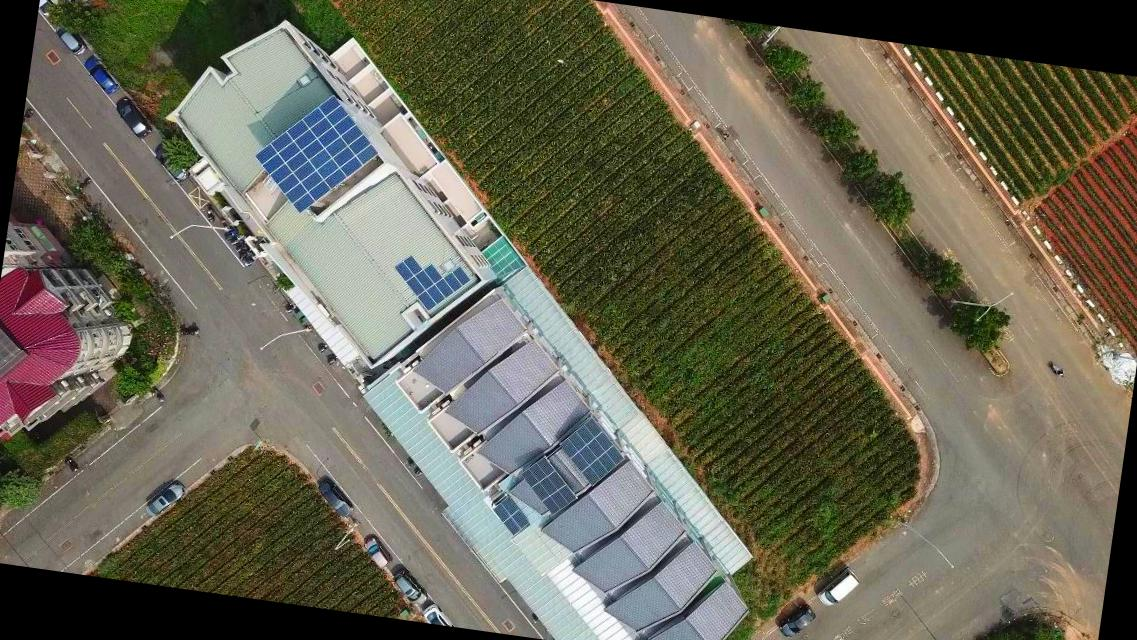vehicle: (814, 566, 862, 612), (143, 477, 186, 522), (113, 96, 156, 140), (314, 477, 356, 521), (80, 56, 125, 96), (153, 144, 193, 183), (390, 568, 429, 606), (778, 604, 816, 639), (53, 23, 89, 59), (360, 534, 394, 572), (421, 602, 456, 626)
